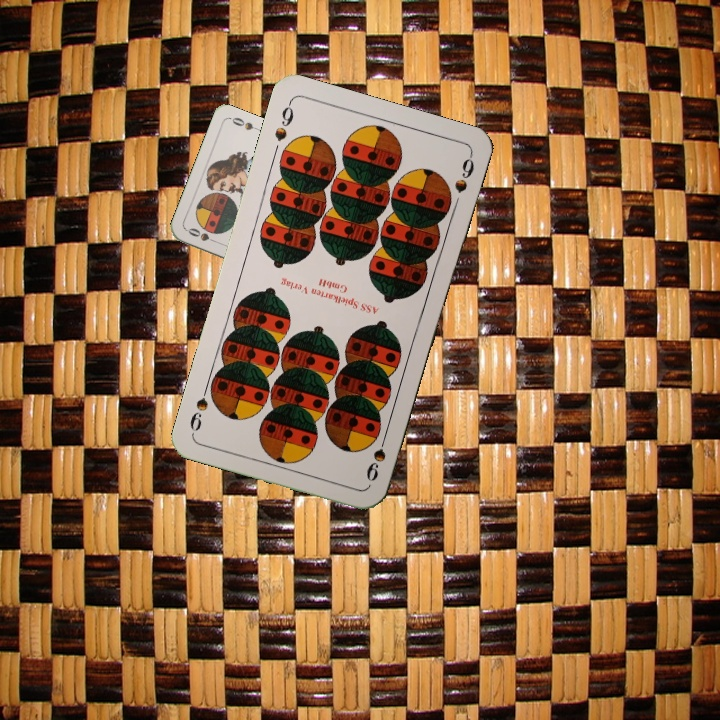S9: (362, 428, 390, 484), (270, 98, 297, 144)
SO: (184, 224, 223, 246)
